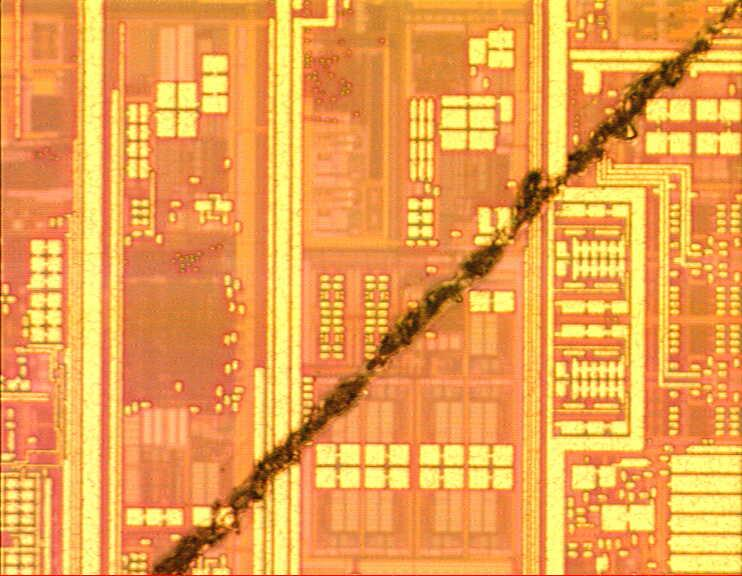SCRATCH: (147, 1, 742, 576)
